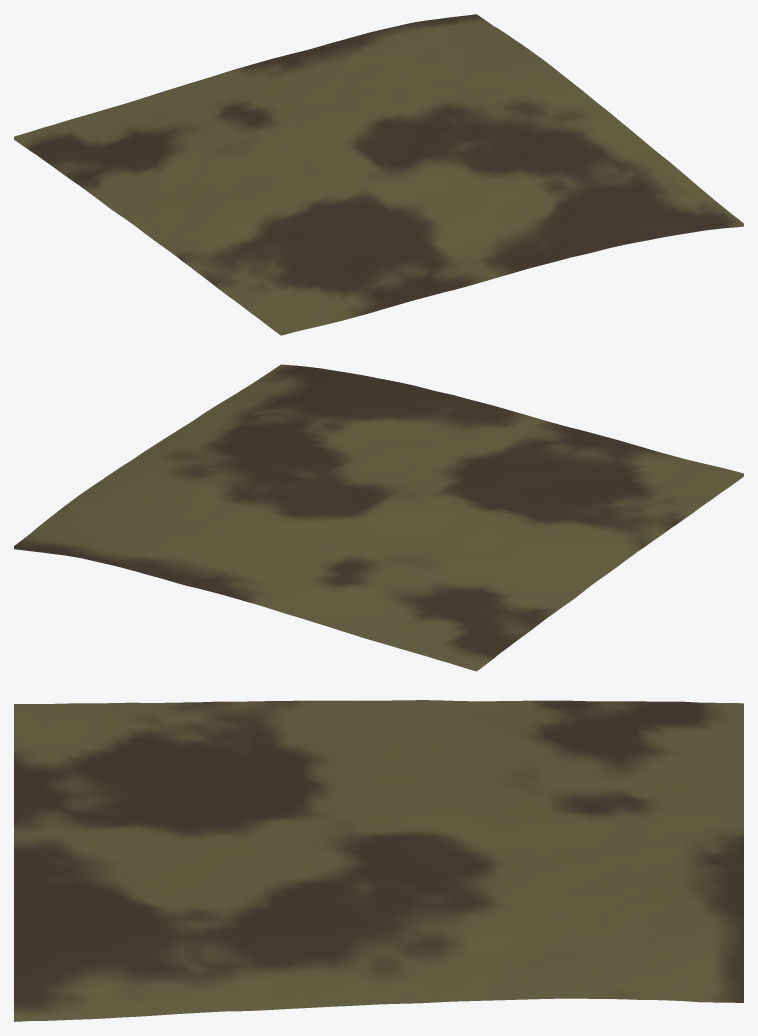
File: land_m_05_03.glb
3 renders of one model, top to bottom at view 1: azimuth 30°, elevation 25°; view 2: azimuth 150°, elevation 25°; view 3: azimuth 270°, elevation 25°, orthographic. The views are drawn at different scales.
Parts seen in each view (by area): view 1: land_m_05_03; view 2: land_m_05_03; view 3: land_m_05_03.
Boxes of the visible parts, box(x1,y1,x2,y2) form: land_m_05_03: box(14, 14, 743, 335); land_m_05_03: box(14, 364, 743, 671); land_m_05_03: box(14, 700, 743, 1021).
Size of the model in its own units: 960 by 49.95 by 960.
